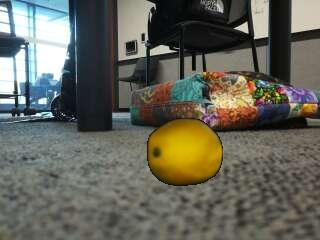lemon: (148, 118, 221, 184)
